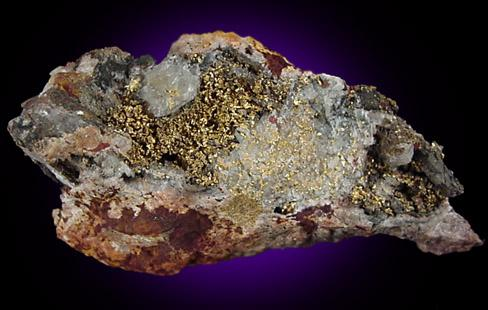gold: (107, 52, 289, 186), (221, 98, 328, 228), (351, 154, 443, 216)
